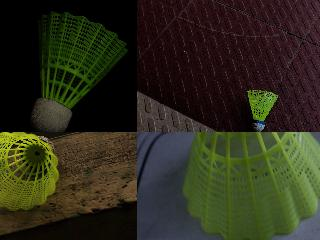shuttlecock: (180, 132, 319, 239), (30, 11, 129, 131), (0, 132, 58, 211), (247, 89, 277, 131)
